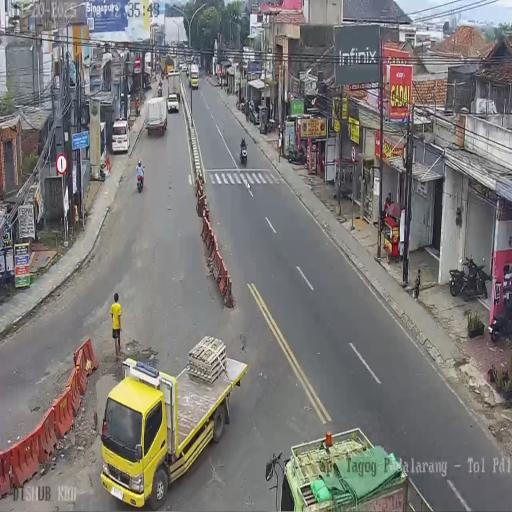3: (98, 341, 248, 509), (278, 426, 429, 508), (145, 96, 167, 137), (144, 52, 153, 84), (189, 64, 199, 89), (186, 63, 191, 77)
car: (111, 118, 131, 154), (167, 92, 179, 113), (167, 69, 180, 86), (180, 62, 187, 72)
truck: (461, 254, 489, 299), (489, 289, 512, 342), (449, 267, 466, 296), (285, 141, 305, 165), (136, 169, 144, 192), (241, 99, 247, 115), (157, 82, 162, 96), (198, 62, 202, 75), (161, 68, 165, 80)
